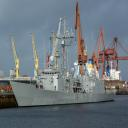Fragata: (9, 37, 117, 111)
